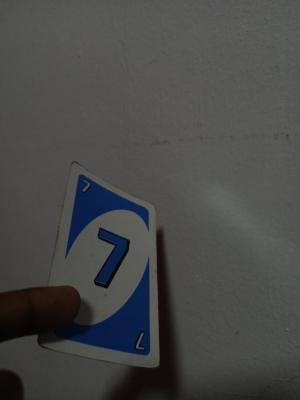blue: (74, 169, 152, 353)
num_7: (133, 328, 150, 352), (79, 174, 93, 197)
